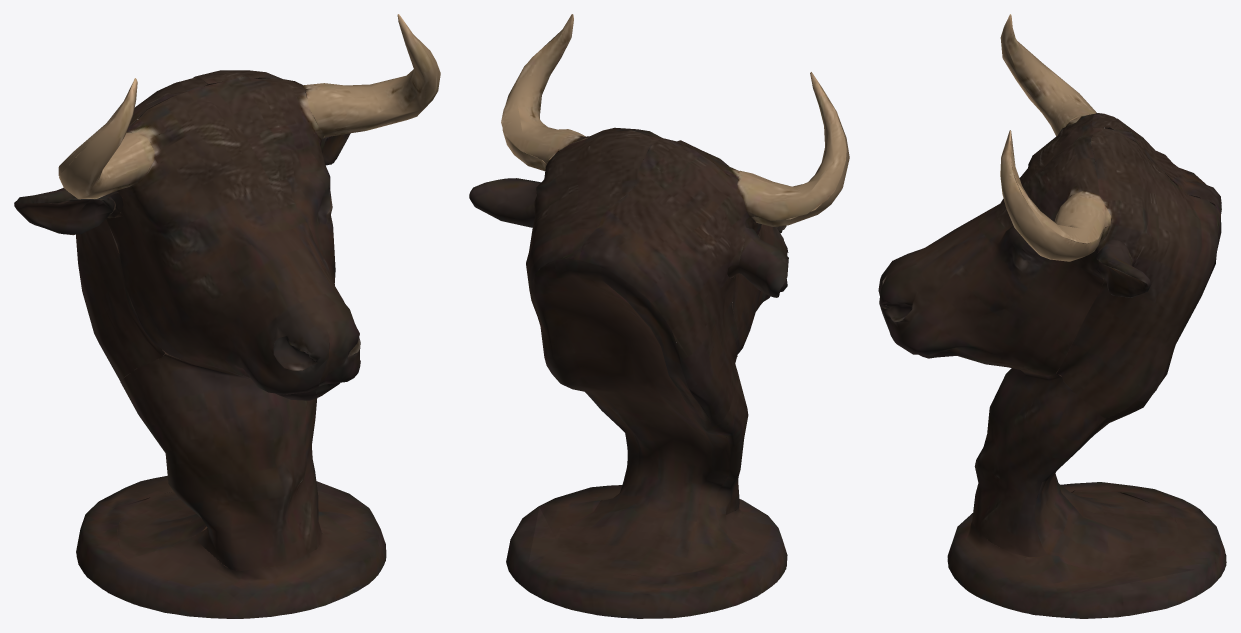
The model's file is bull_head.glb.
3 views of the same model, side by side, from view 1: azimuth 30°, elevation 25°; view 2: azimuth 150°, elevation 25°; view 3: azimuth 270°, elevation 25° (orthographic). The views are drawn at different scales.
Parts seen in each view (by area): view 1: bull_head; view 2: bull_head; view 3: bull_head.
Boxes of the visible parts, bbox=[...] form: bull_head: bbox=[14, 14, 440, 618]; bull_head: bbox=[469, 14, 849, 618]; bull_head: bbox=[878, 14, 1226, 618].
Size of the model in its own units: 0.3066 by 0.4329 by 0.2812.
Materials: 1 (1 with a texture image).
